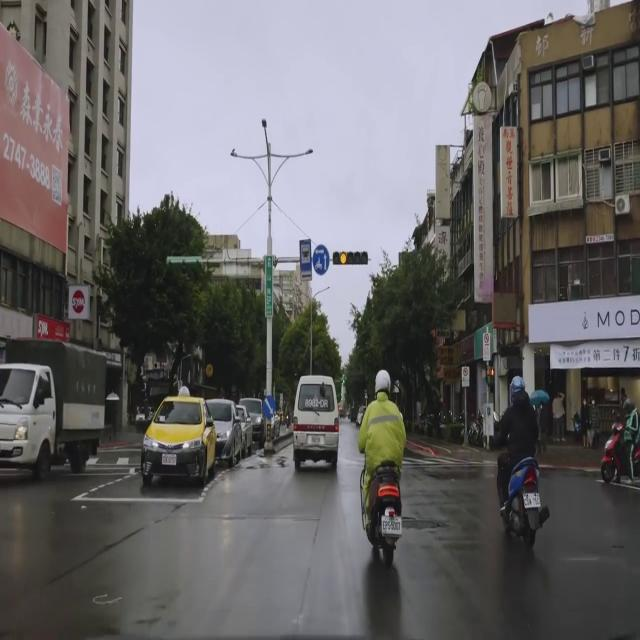yellow light: (332, 251, 368, 265)
